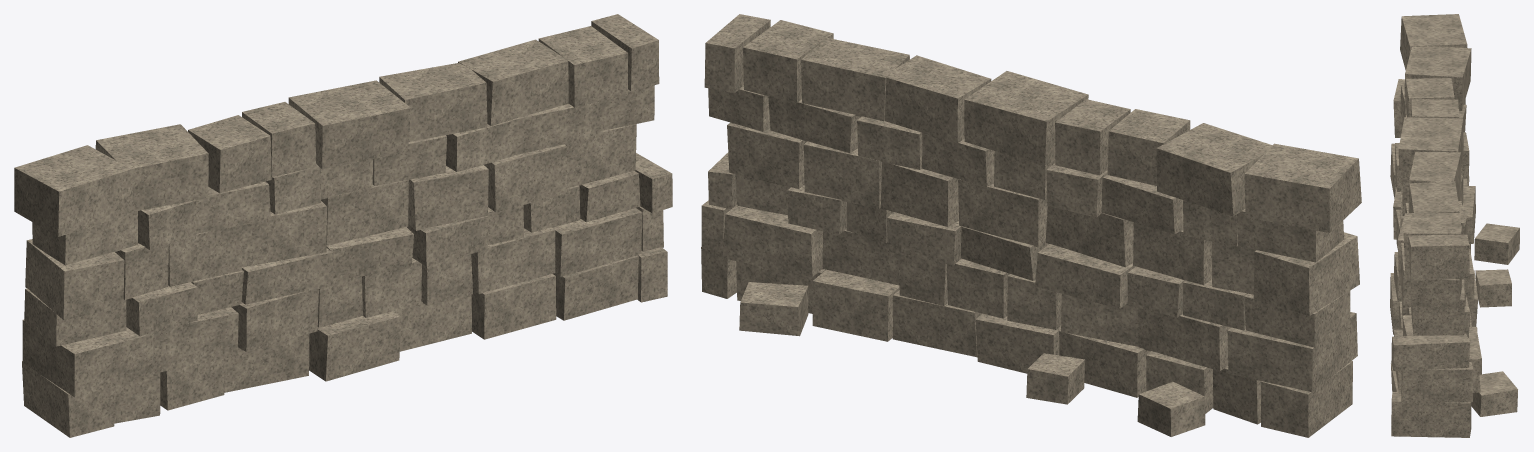
Rendered from drywall.glb.
3 views of the same model, side by side, from view 1: azimuth 30°, elevation 25°; view 2: azimuth 150°, elevation 25°; view 3: azimuth 270°, elevation 25° (orthographic). The views are drawn at different scales.
Parts seen in each view (by area): view 1: drywall; view 2: drywall; view 3: drywall.
Boxes of the visible parts, bbox=[...] form: drywall: bbox=[14, 14, 672, 437]; drywall: bbox=[701, 14, 1361, 437]; drywall: bbox=[1390, 14, 1519, 437].
Bounding box in the file's own units: 3.22 × 1.24 × 0.757.
1 material, 1 textured.
